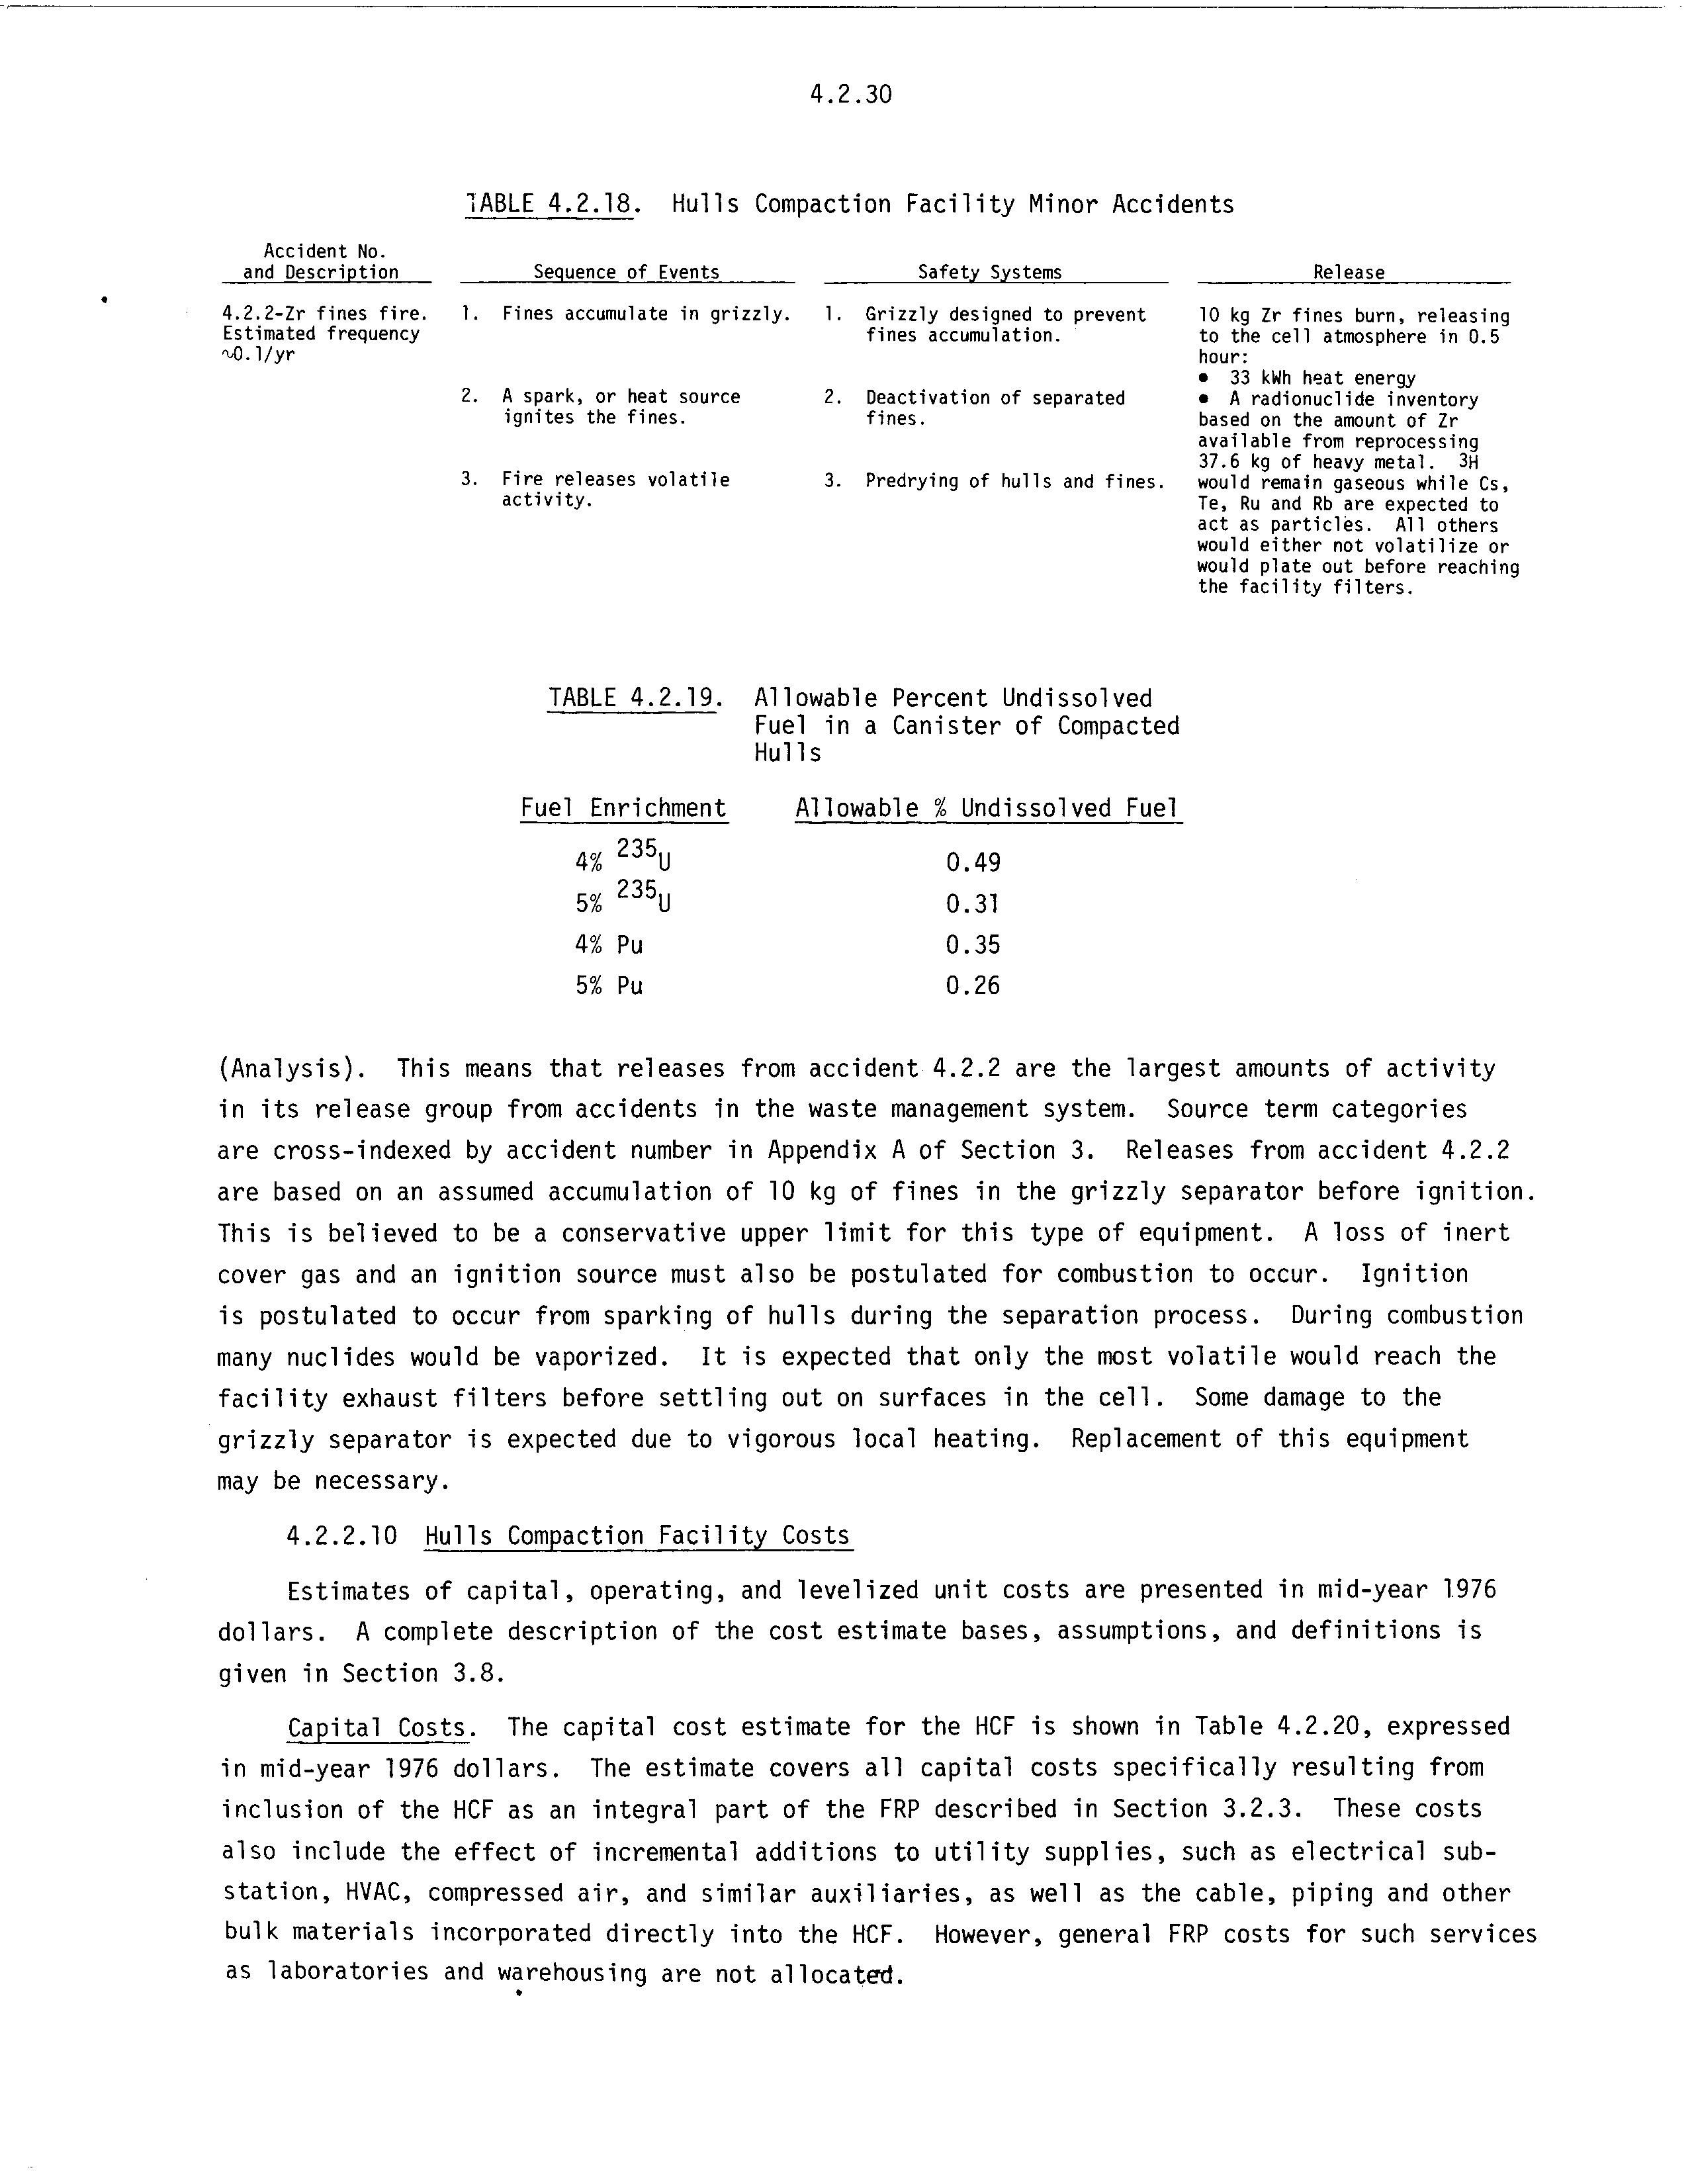borderless: (202, 181, 1565, 606), (512, 672, 1203, 1026)
